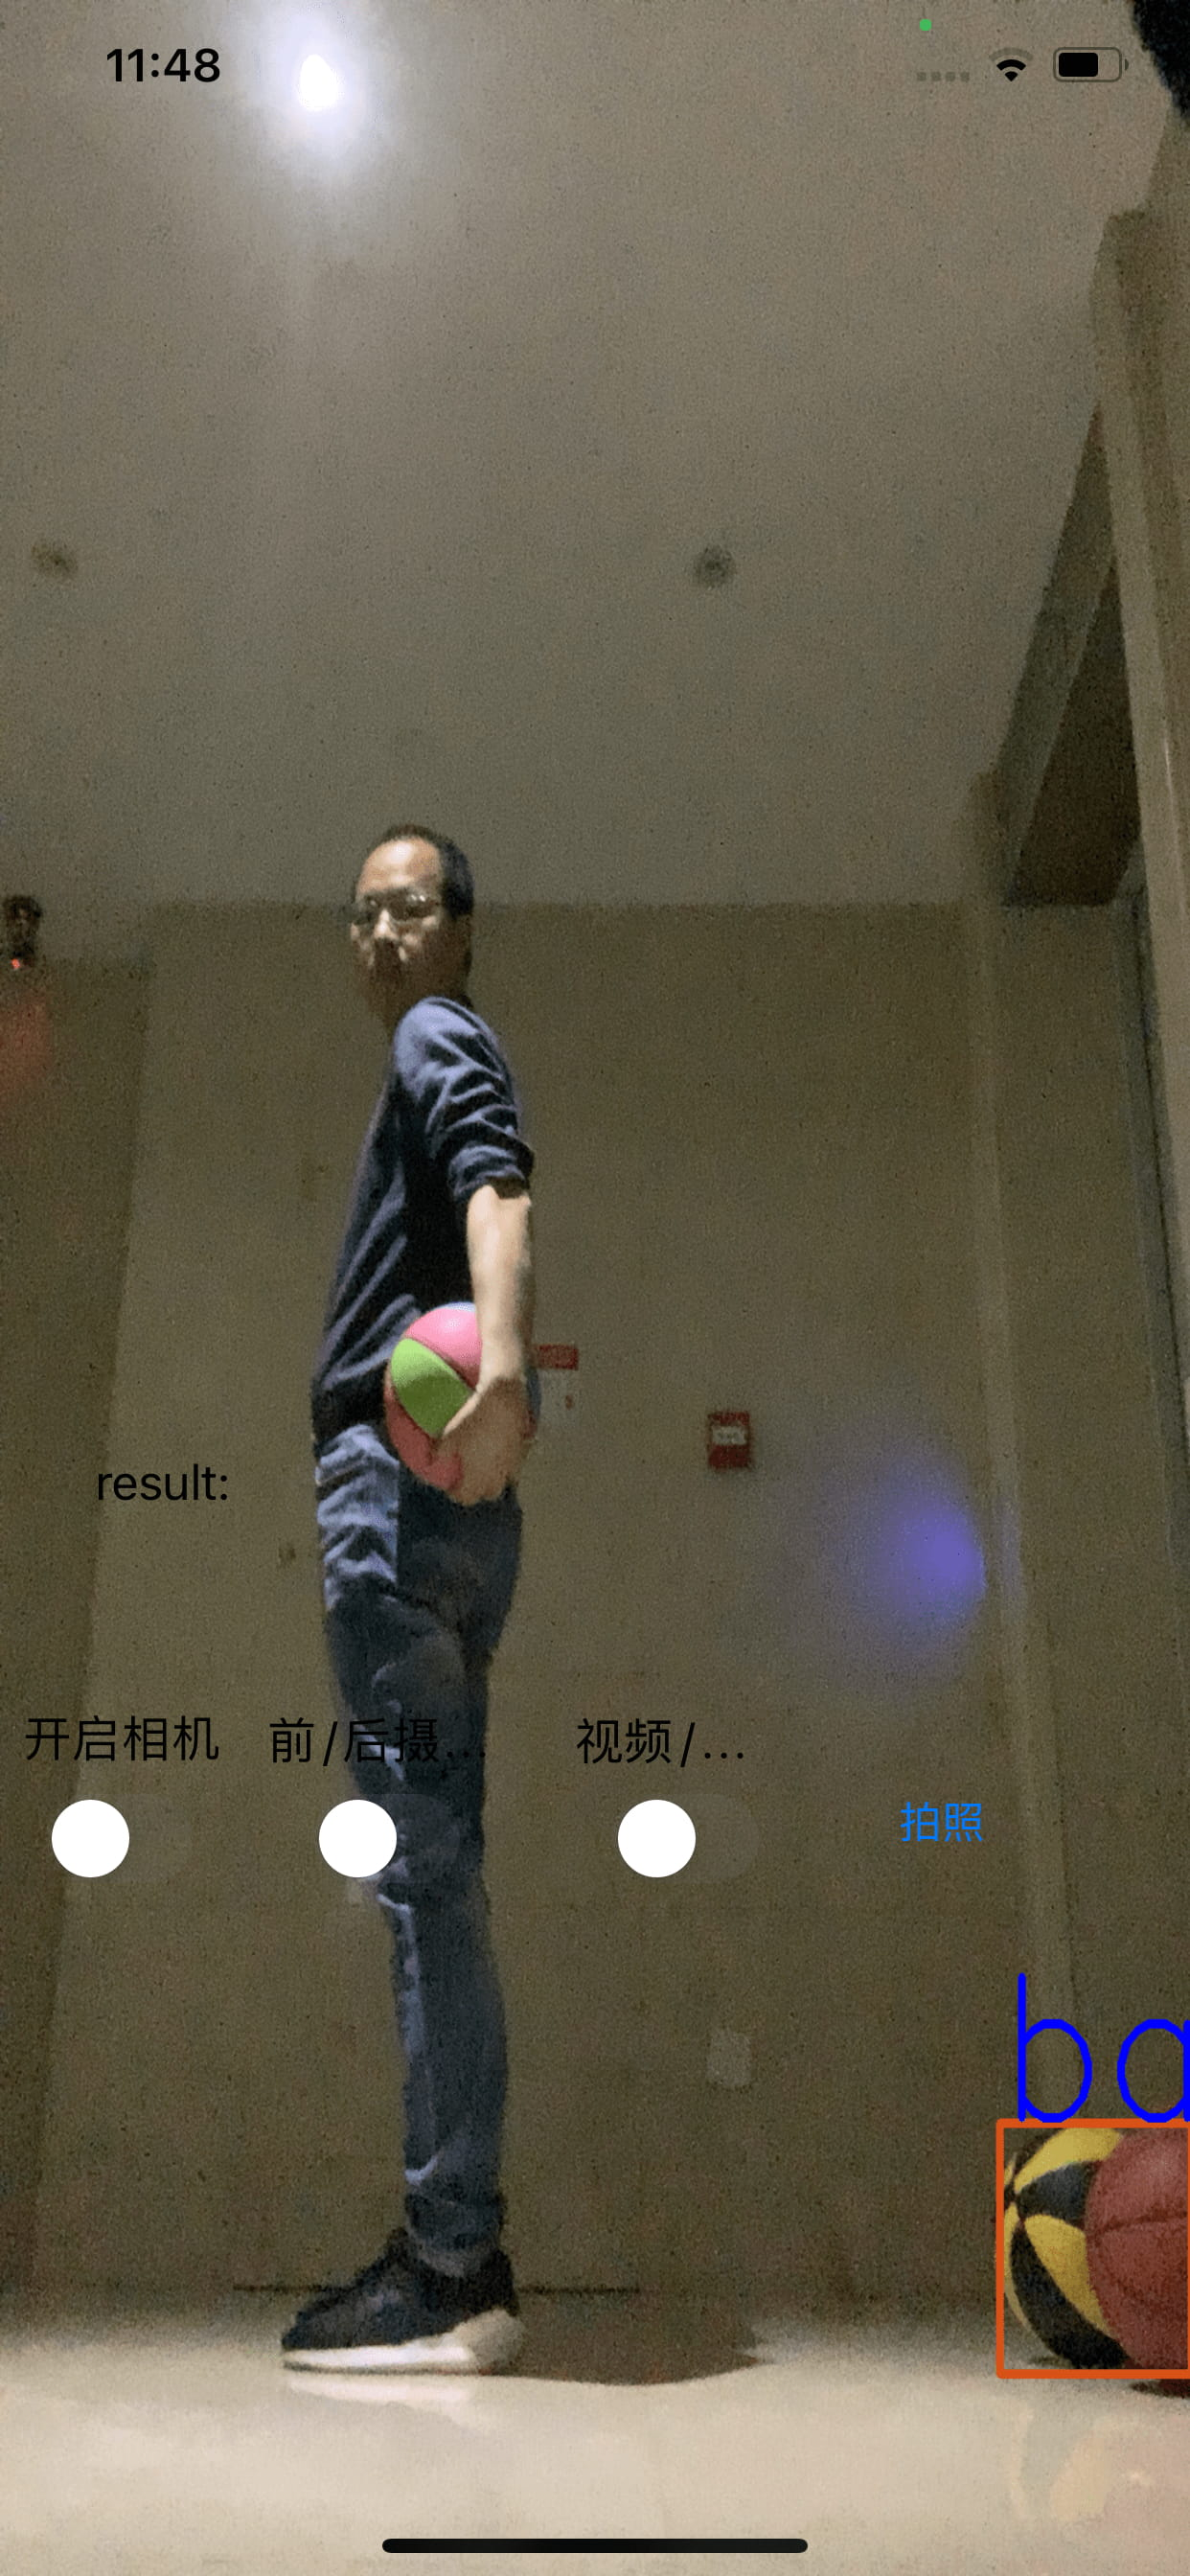ball: (385, 1293, 547, 1506), (1004, 2127, 1129, 2376), (1090, 2126, 1190, 2369)
